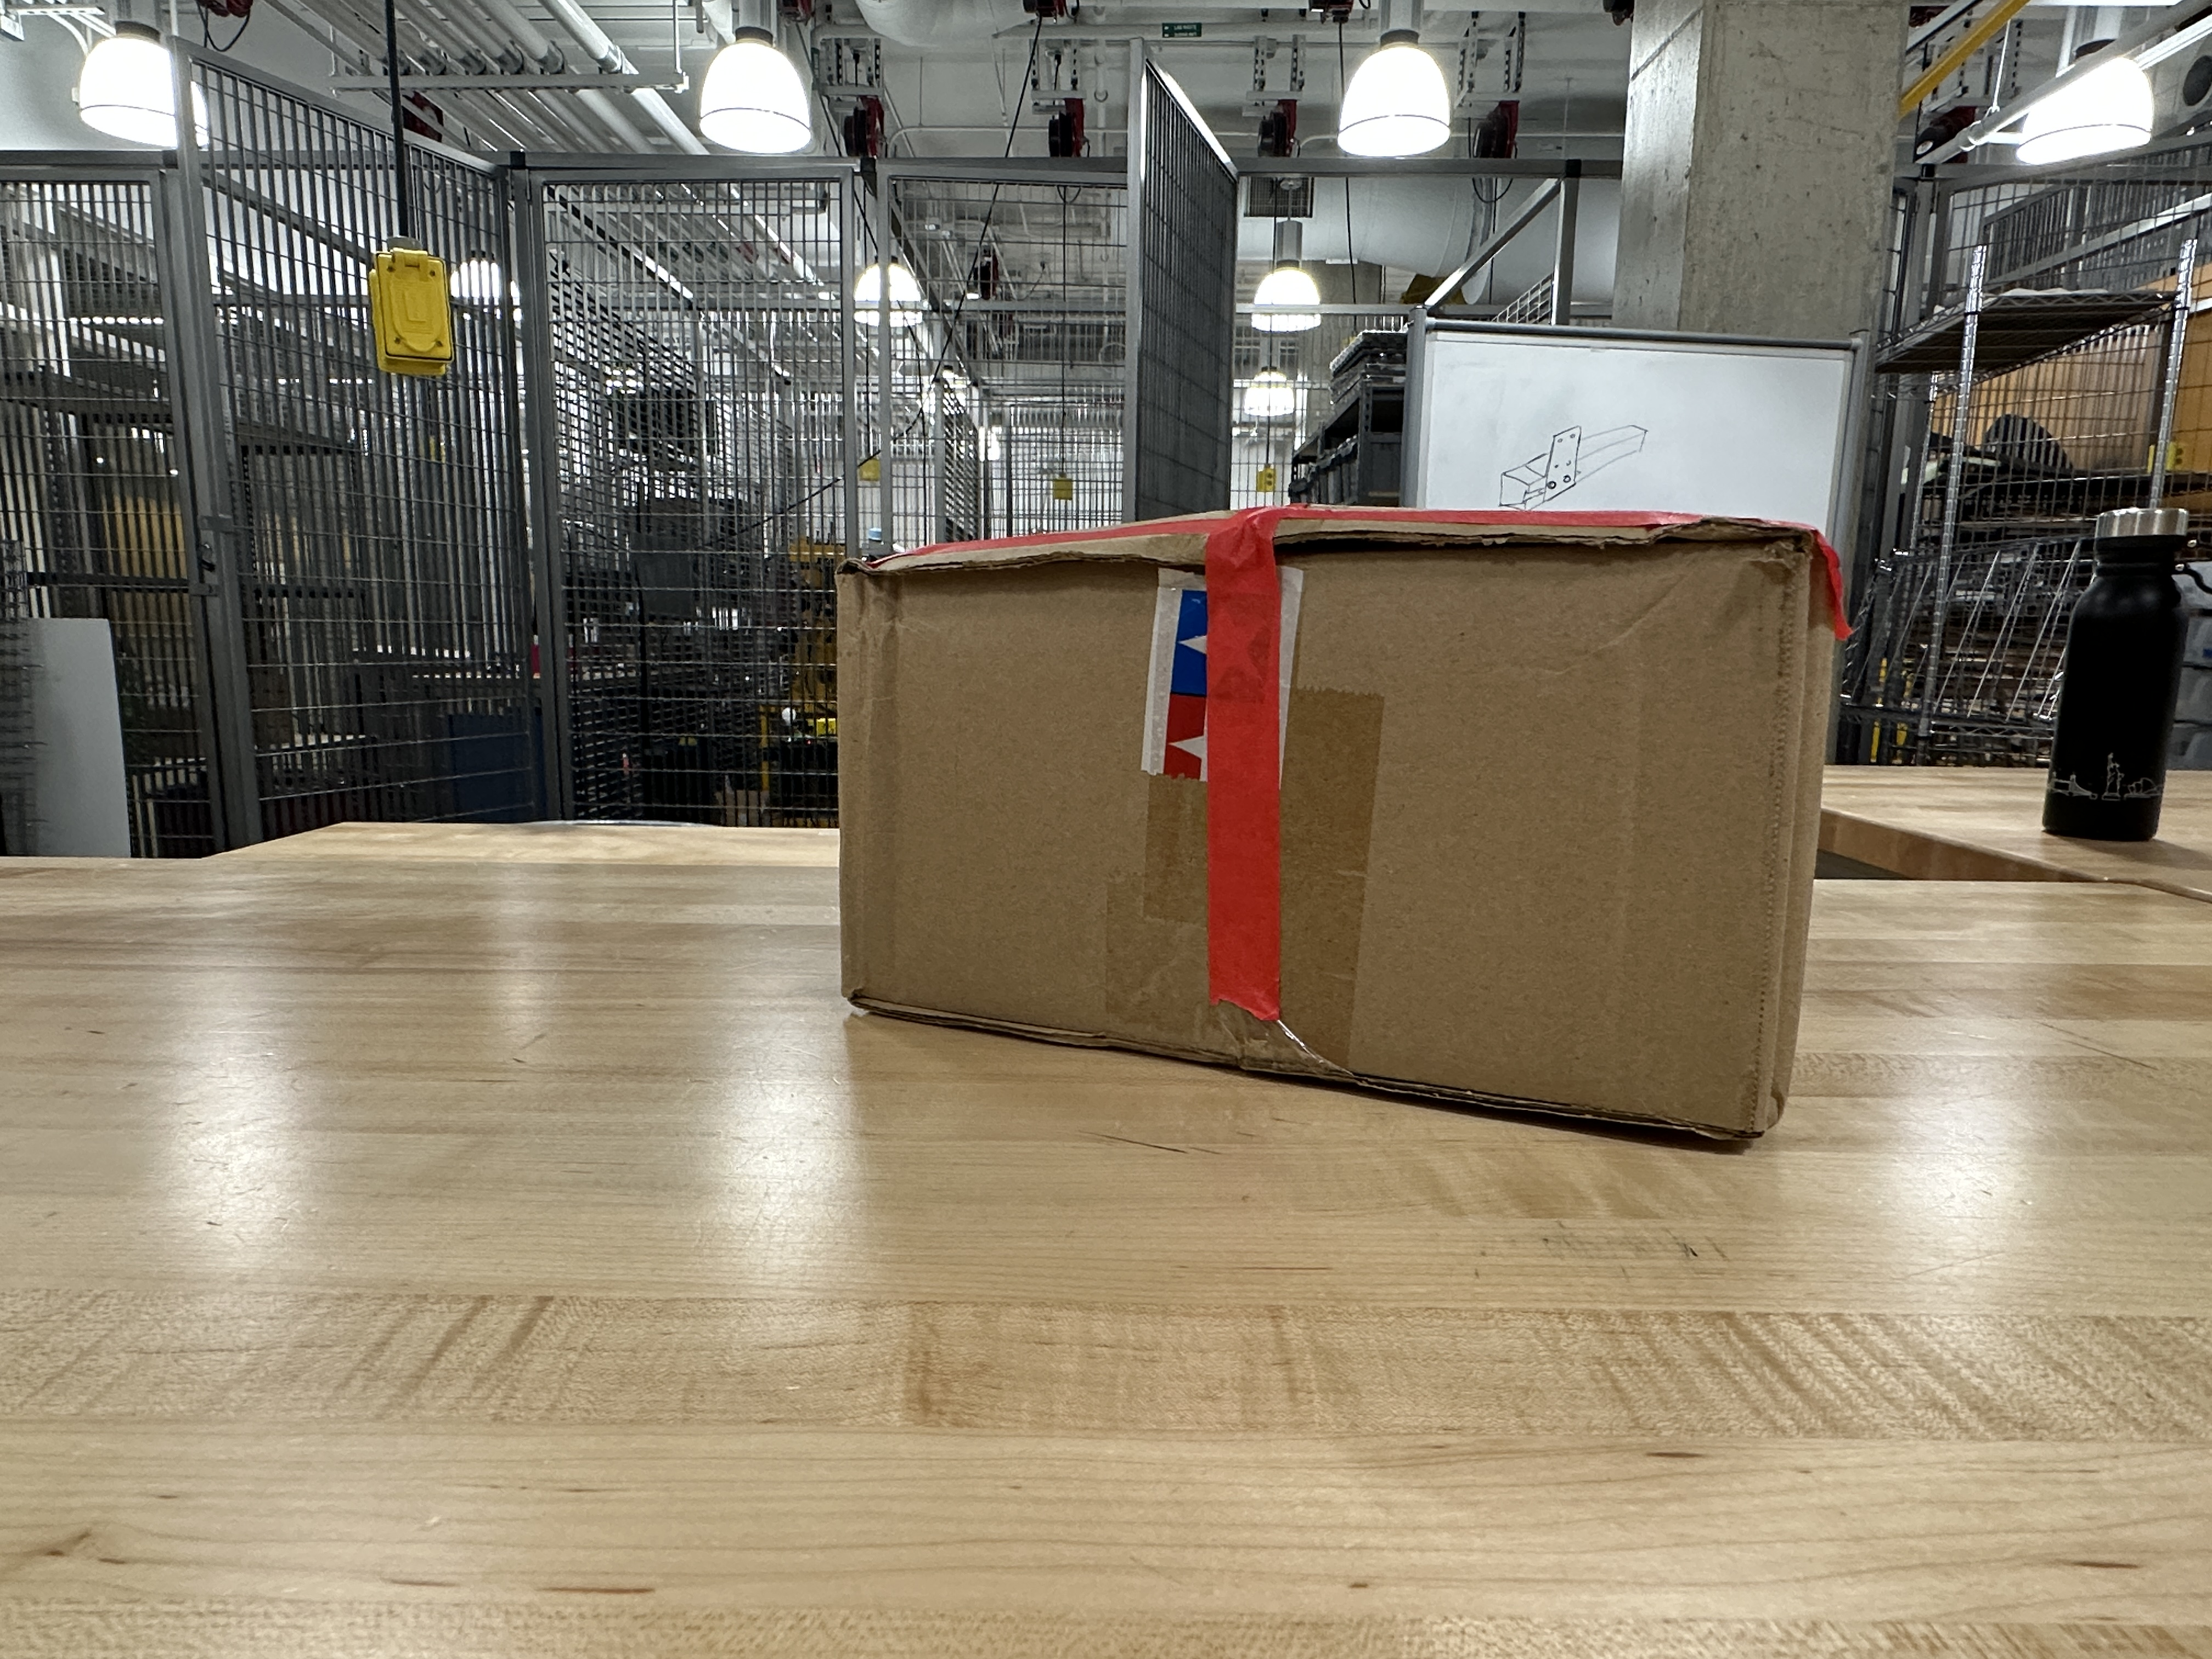Box_Obstacle: (822, 492, 1866, 1165)
